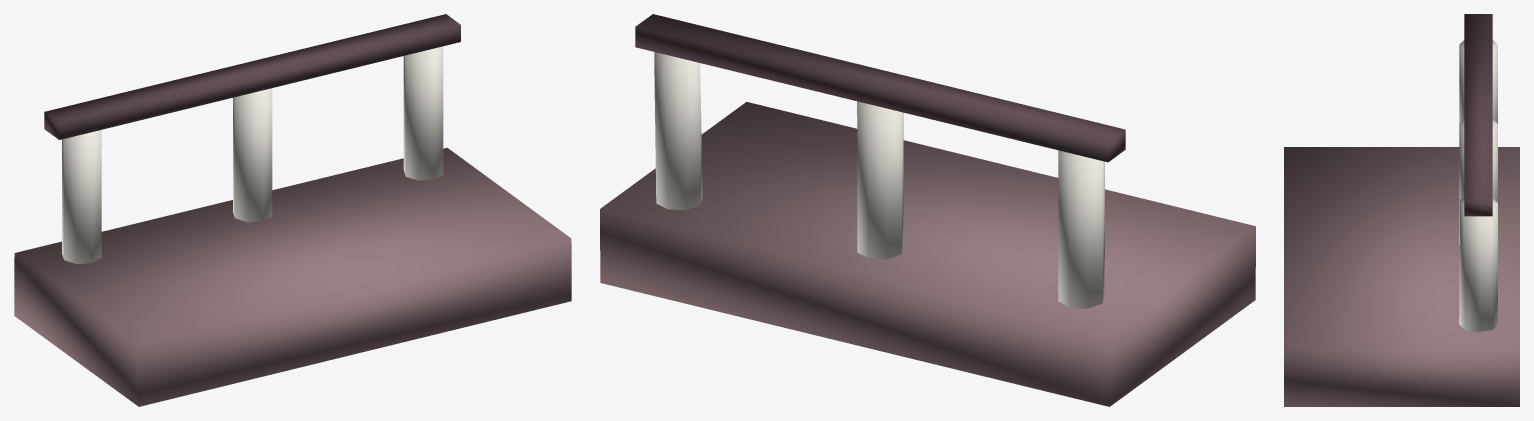
File: SM_Neroberg_Vista_LOD3.fbx
3 views of the same model, side by side, from view 1: azimuth 30°, elevation 25°; view 2: azimuth 150°, elevation 25°; view 3: azimuth 270°, elevation 25° (orthographic). The views are drawn at different scales.
Visible parts, largest first — view 1: SM_Neroberg_Vista_LOD3; view 2: SM_Neroberg_Vista_LOD3; view 3: SM_Neroberg_Vista_LOD3.
Part boxes in pixels (left/top/right/bottom): SM_Neroberg_Vista_LOD3: left=14, top=14, right=571, bottom=406; SM_Neroberg_Vista_LOD3: left=600, top=14, right=1255, bottom=406; SM_Neroberg_Vista_LOD3: left=1284, top=14, right=1519, bottom=406.
Bounding box in the file's own units: 2.79 × 1.3 × 1.39.
